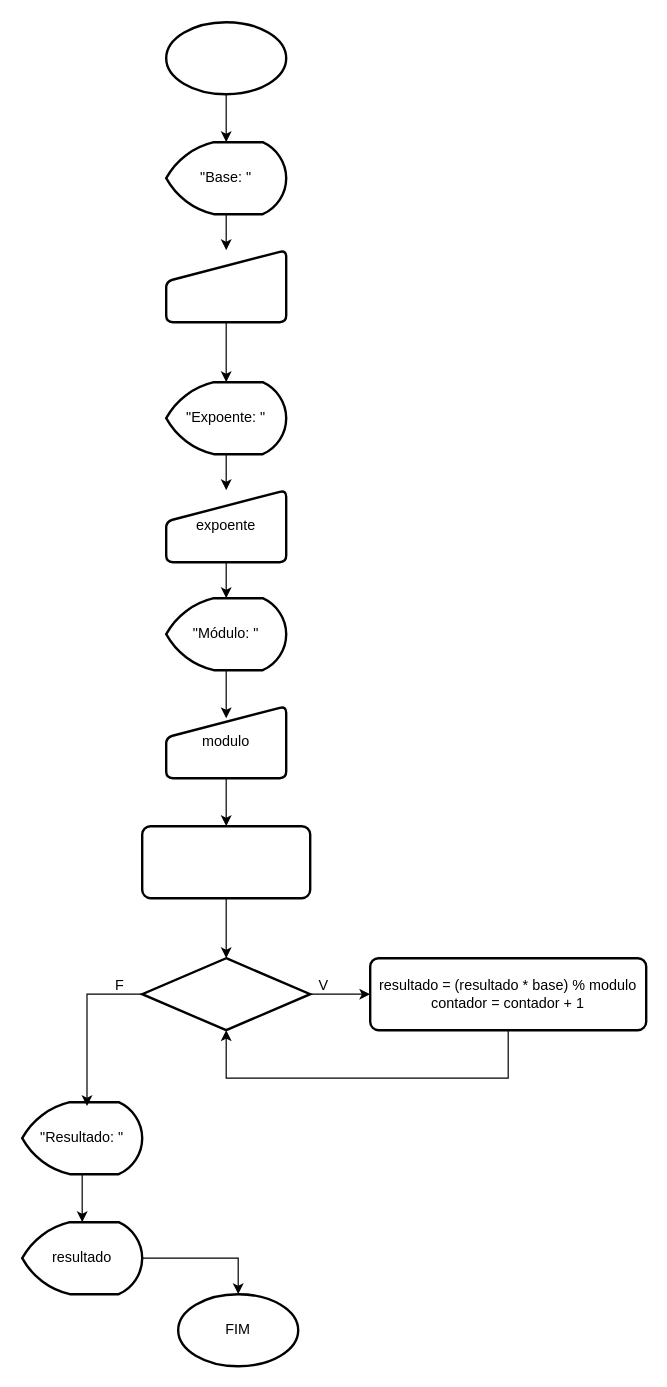
Some shapes in this 667 by 1387 pixel diagram are drawn without their labels. The shapes that lost their labels are listed below. From the top down, each one's centre as x and y in pixels, then its label:
(x=225, y=57): INICIO
(x=225, y=285): base
(x=225, y=861): resultado = 1 base = base % modulo contador = 0
(x=225, y=993): contador < expoente
